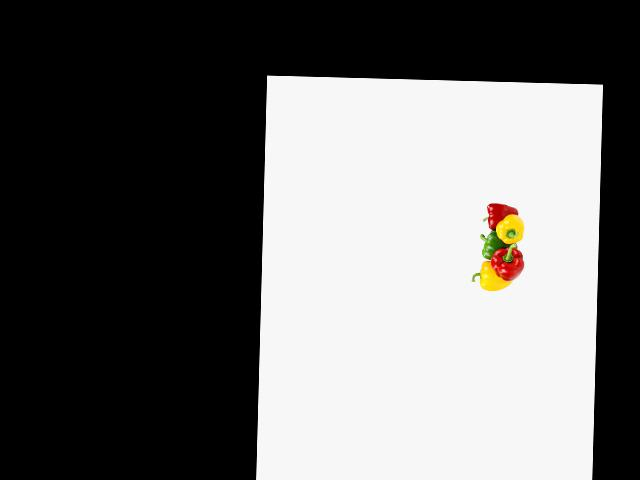bell_pepper: (481, 200, 514, 230)
